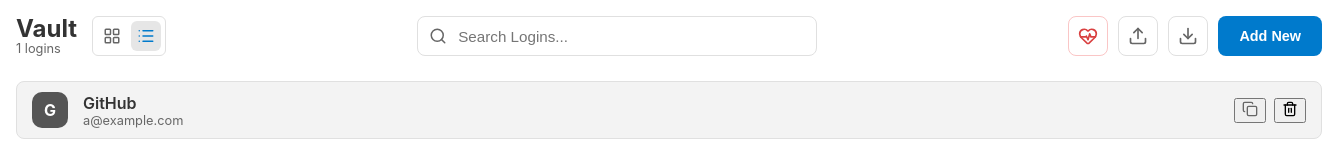
Test: VaultView - listing › shows no rows, and not the empty-vault message, when a search matches nothing
The image size is (1339, 160).
In the field with placeholder "Search Logins...": (617, 36) [417,16,817,56], type "zzz"
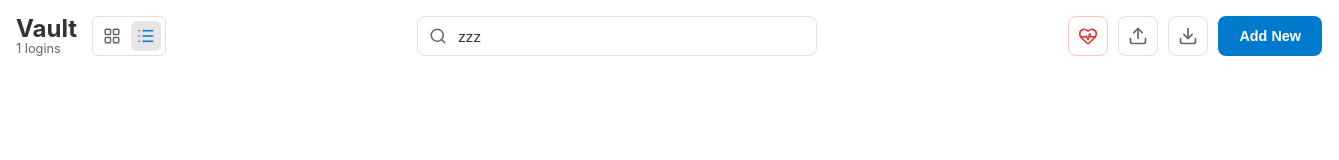
Expected: the text "GitHub" is gone
